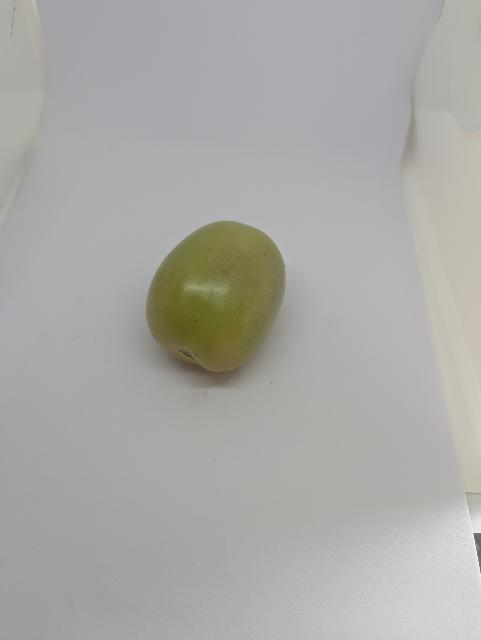green: (143, 213, 292, 388)
